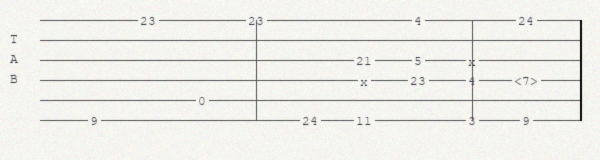0: (198, 94, 210, 106)
11: (356, 114, 376, 126)
21: (356, 54, 376, 66)
23: (140, 14, 160, 26), (248, 14, 268, 26), (410, 74, 430, 86)
24: (302, 114, 322, 126), (518, 14, 538, 26)
3: (468, 114, 480, 126)
4: (414, 14, 426, 26), (468, 74, 480, 86)
5: (414, 54, 426, 66)
9: (90, 114, 102, 126), (522, 114, 534, 126)
harmonic: (514, 74, 542, 87)
x: (360, 75, 372, 85), (468, 55, 480, 65)
